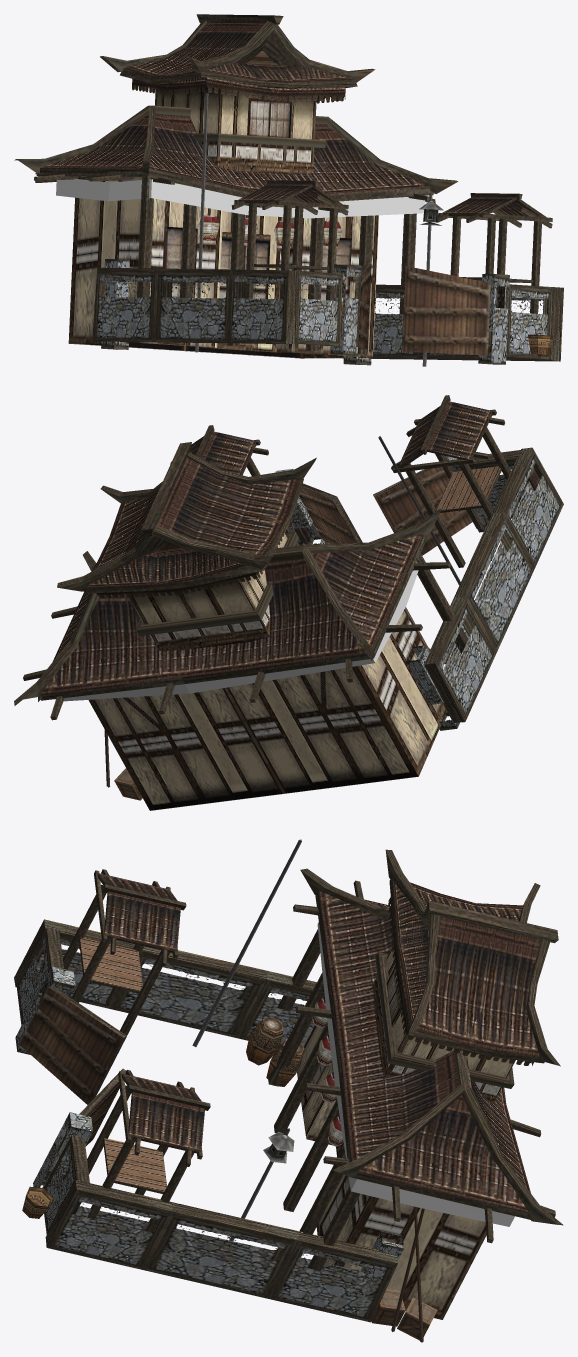
File: japan_bansho.fbx
3 views of the same model, one above another, from view 1: azimuth 30°, elevation 25°; view 2: azimuth 150°, elevation 25°; view 3: azimuth 270°, elevation 25° (orthographic). The views are drawn at different scales.
Visible parts, largest first — view 1: Object03, Object01, Object02; view 2: Object03, Object01, Object02; view 3: Object03, Object02, Object01.
Boxes of the visible parts, x1,y1,x2,y2 form: Object03: [14, 14, 563, 365]; Object01: [56, 178, 425, 218]; Object02: [157, 93, 553, 366]; Object03: [14, 395, 563, 810]; Object01: [55, 562, 418, 701]; Object02: [104, 436, 460, 800]; Object03: [14, 849, 563, 1322]; Object02: [22, 839, 437, 1342]; Object01: [317, 922, 514, 1226].
Bounding box in the file's own units: 9.39 × 10.47 × 8.47.
Materials: 2 (2 with a texture image).
